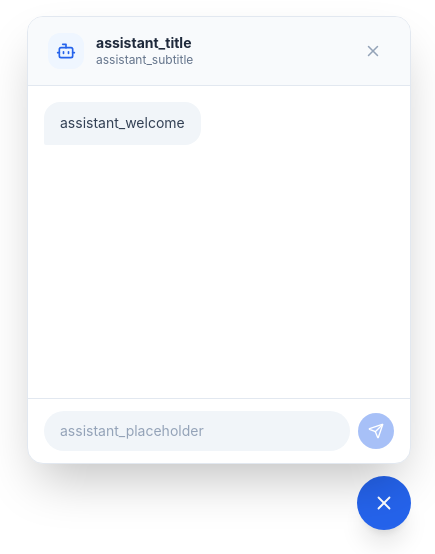
Test case: AssistantChat › asks the assistant the typed question and clears the composer
The width and height of the screenshot is (435, 554).
Type "What is DB-01 OEE today?" into the field with placeholder "assistant_placeholder" at x=197, y=431, box [44, 411, 350, 451]
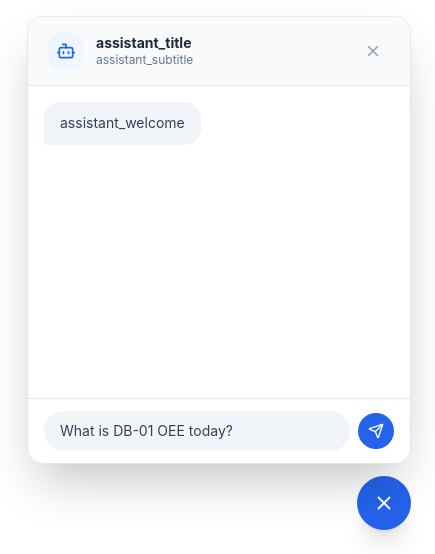
Click the button named "send" at x=376, y=431, box [358, 413, 394, 449]
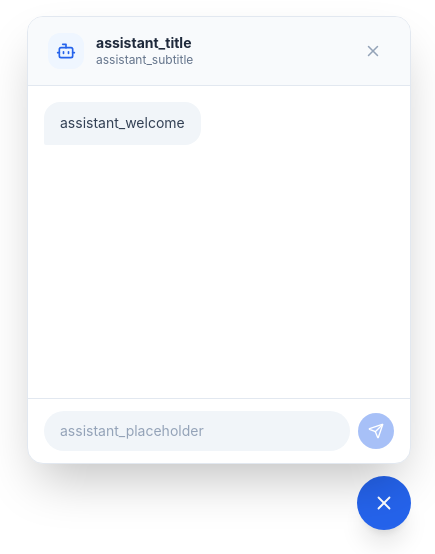
Expected: the field with placeholder "assistant_placeholder" is empty, [44, 411, 350, 451]
